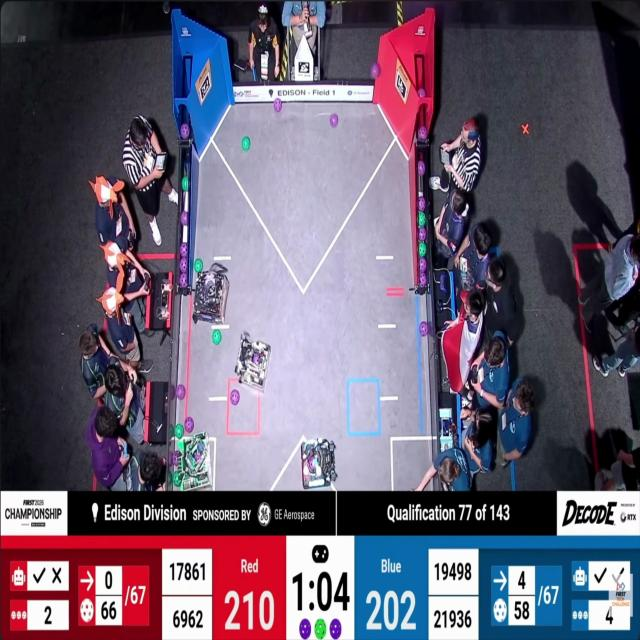artifact_green: (314, 619, 327, 640), (175, 424, 184, 440), (418, 242, 427, 257), (213, 330, 221, 345), (242, 136, 250, 151), (194, 259, 203, 272), (418, 197, 426, 211), (182, 177, 189, 191), (418, 212, 425, 226), (174, 474, 181, 486), (168, 471, 173, 484), (169, 426, 174, 437), (175, 424, 182, 430)
artifact_purple: (299, 619, 311, 639), (330, 619, 341, 639), (170, 451, 180, 467), (180, 124, 190, 139), (371, 62, 380, 78), (417, 160, 426, 176), (176, 384, 185, 399), (230, 390, 239, 405), (419, 322, 428, 337), (185, 417, 194, 432), (440, 274, 447, 293), (179, 258, 188, 272), (179, 273, 188, 287), (418, 126, 427, 140), (419, 258, 427, 272), (180, 243, 188, 257), (419, 273, 427, 287), (274, 99, 282, 112), (330, 114, 338, 127), (418, 228, 426, 241), (181, 211, 188, 225), (418, 197, 425, 211), (418, 88, 426, 98), (194, 452, 201, 461), (253, 354, 259, 364)
